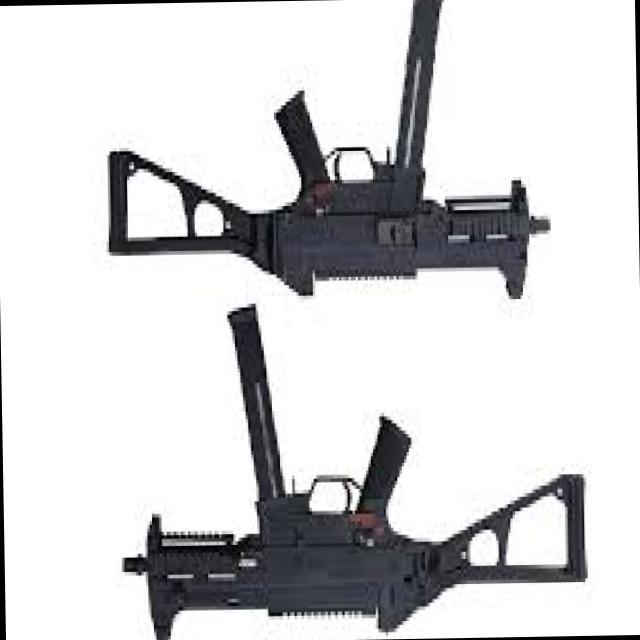Gun: (105, 289, 617, 640), (107, 0, 568, 291)
